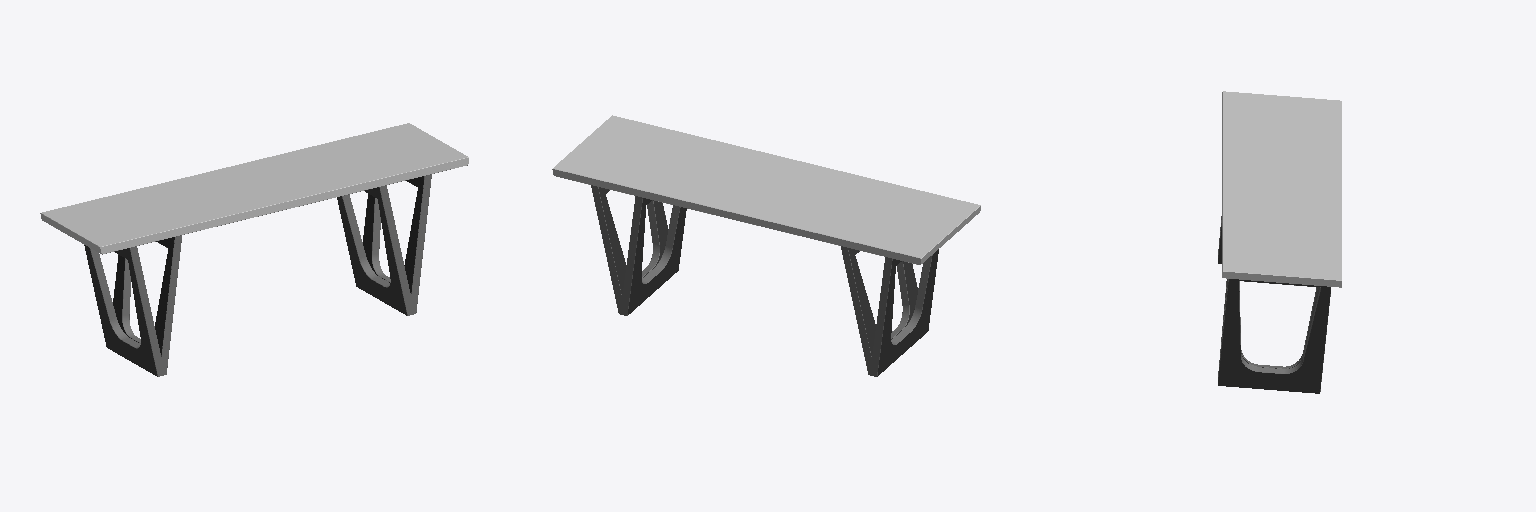
The model's file is desk.obj.
3 renders of one model, left to right at view 1: azimuth 30°, elevation 25°; view 2: azimuth 150°, elevation 25°; view 3: azimuth 270°, elevation 25°, orthographic.
Visible parts, largest first — view 1: odesd2_B2_obj; view 2: odesd2_B2_obj; view 3: odesd2_B2_obj.
Part boxes in pixels (x1,y1,x2,y2): odesd2_B2_obj: (40,123,468,376); odesd2_B2_obj: (552,115,980,376); odesd2_B2_obj: (1218,91,1341,393).
Bounding box in the file's own units: 3.2 × 1.24 × 0.9391.